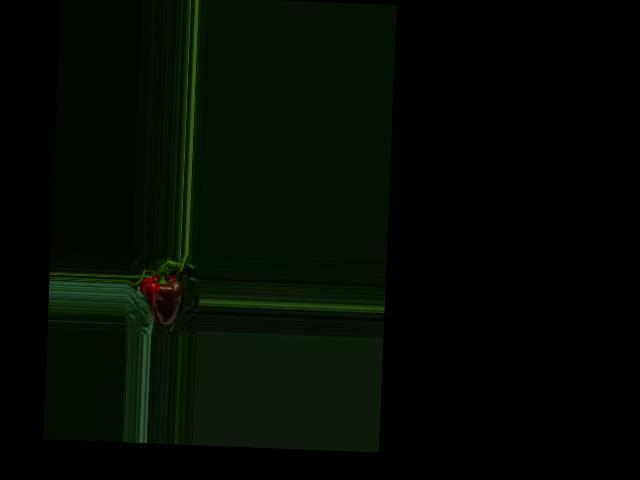bell_pepper: (135, 267, 189, 330)
